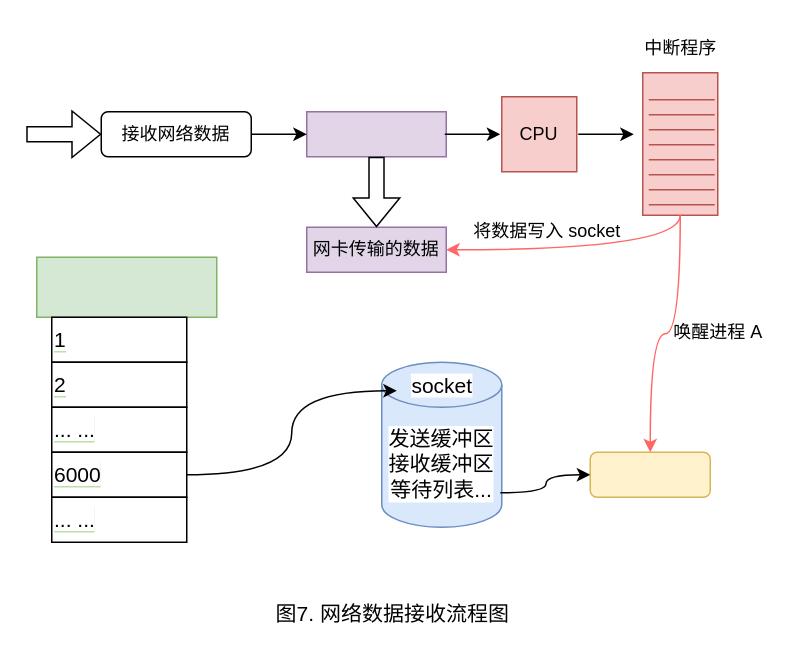
This 803x662 diagram has some shape labels left out. Each missing label, with the centre of its shape:
"文件列表(fd)" belongs at pixel 126 286.
"网卡" belongs at pixel 375 133.
"进程 A" belongs at pixel 649 474.
